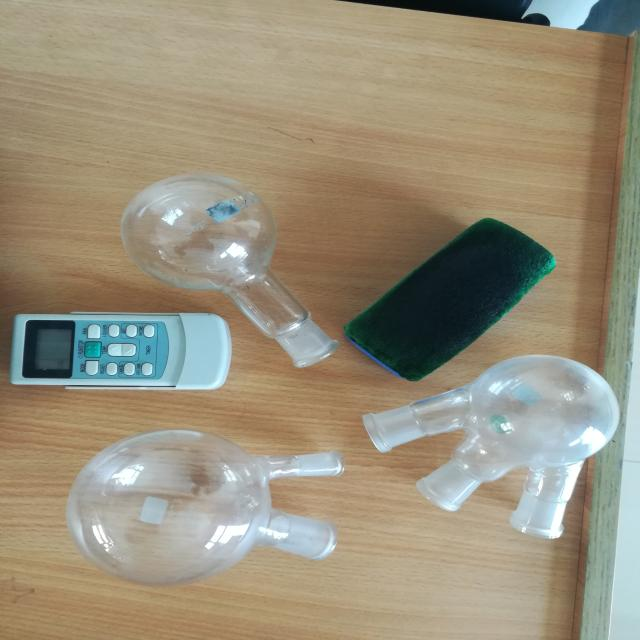Round_Bottom_Flask_Borosilicate_Glass_1_Neck: (114, 144, 368, 385)
Round_Bottom_Flask_Borosilicate_Glass_2_Neck: (41, 410, 358, 617)
Round_Bottom_Flask_Borosilicate_Glass_3_Neck: (342, 330, 640, 552)
